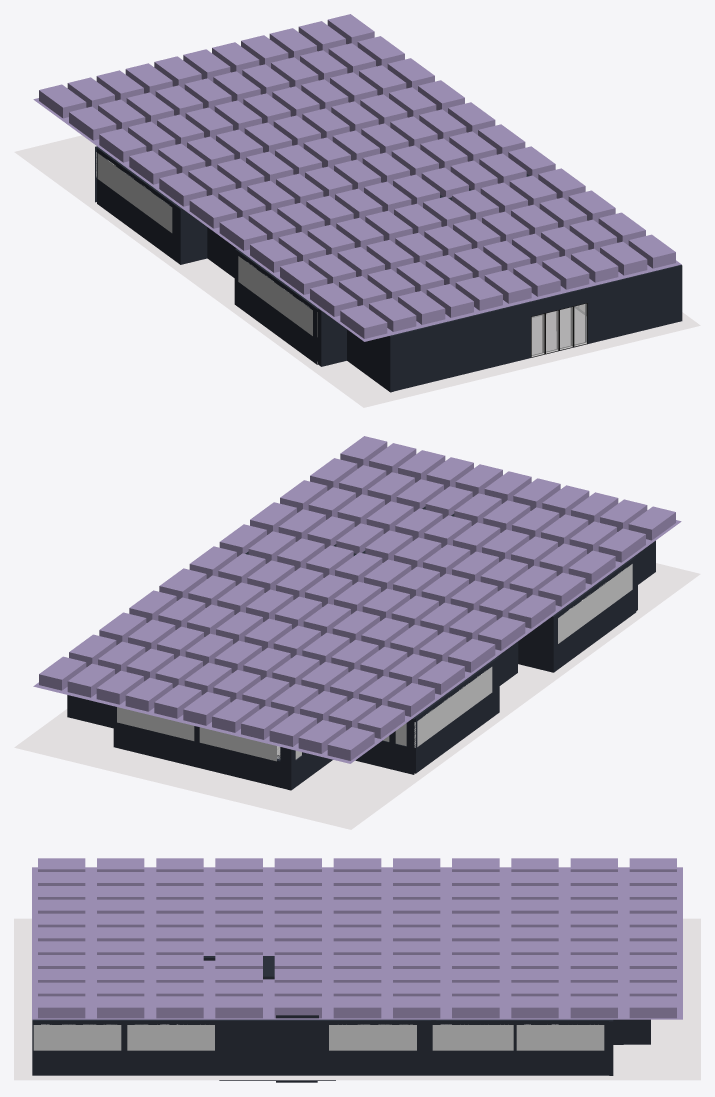
The model's file is mapUPDT.fbx.
The picture shows the model from 3 angles, top to bottom: view 1: azimuth 30°, elevation 25°; view 2: azimuth 150°, elevation 25°; view 3: azimuth 270°, elevation 25°; orthographic projection.
Parts seen in each view (by area): view 1: Plane.028, Cube.004, Plane, Cube.003, Plane.121, Plane.002, Cube.007, Plane.003, Plane.135; view 2: Plane.028, Plane, Plane.002, Plane.121, Cube.007, Plane.008, Plane.005, Plane.003, Plane.135, Plane.011, Plane.006, Plane.009 (+3 smaller); view 3: Plane.028, Plane, Cube.005, Plane.026, Plane.035, Plane.032, Plane.020, Plane.023, Plane.021, Plane.036, Plane.027, Plane.033 (+2 smaller).
Boxes of the visible parts, box(x1,y1,x2,y2) form: Plane.028: box(33, 14, 681, 341); Cube.004: box(393, 265, 678, 391); Plane: box(14, 135, 700, 407); Cube.003: box(318, 308, 393, 392); Plane.121: box(237, 250, 318, 364); Plane.002: box(97, 147, 177, 261); Cube.007: box(177, 206, 287, 306); Plane.003: box(97, 153, 172, 232); Plane.135: box(238, 256, 312, 335); Plane.028: box(33, 436, 681, 763); Plane: box(14, 563, 700, 829); Plane.002: box(414, 659, 495, 773); Plane.121: box(555, 556, 636, 670); Cube.007: box(465, 614, 556, 714); Plane.008: box(114, 706, 201, 768); Plane.005: box(201, 743, 287, 789); Plane.003: box(417, 667, 492, 746); Plane.135: box(558, 564, 632, 643); Plane.011: box(355, 717, 415, 774); Plane.006: box(199, 727, 276, 761); Plane.009: box(117, 707, 194, 740); Plane.028: box(32, 858, 682, 1019); Plane: box(14, 918, 700, 1080); Cube.005: box(219, 1019, 335, 1080); Plane.026: box(328, 1019, 433, 1075); Plane.035: box(32, 1019, 125, 1075); Plane.032: box(126, 1019, 219, 1075); Plane.020: box(515, 1019, 609, 1075); Plane.023: box(433, 1019, 517, 1075); Plane.021: box(516, 1025, 604, 1050); Plane.036: box(33, 1025, 121, 1050); Plane.027: box(329, 1025, 416, 1050); Plane.033: box(127, 1025, 214, 1050).
Size of the model in its own units: 3182 by 690 by 5716.
